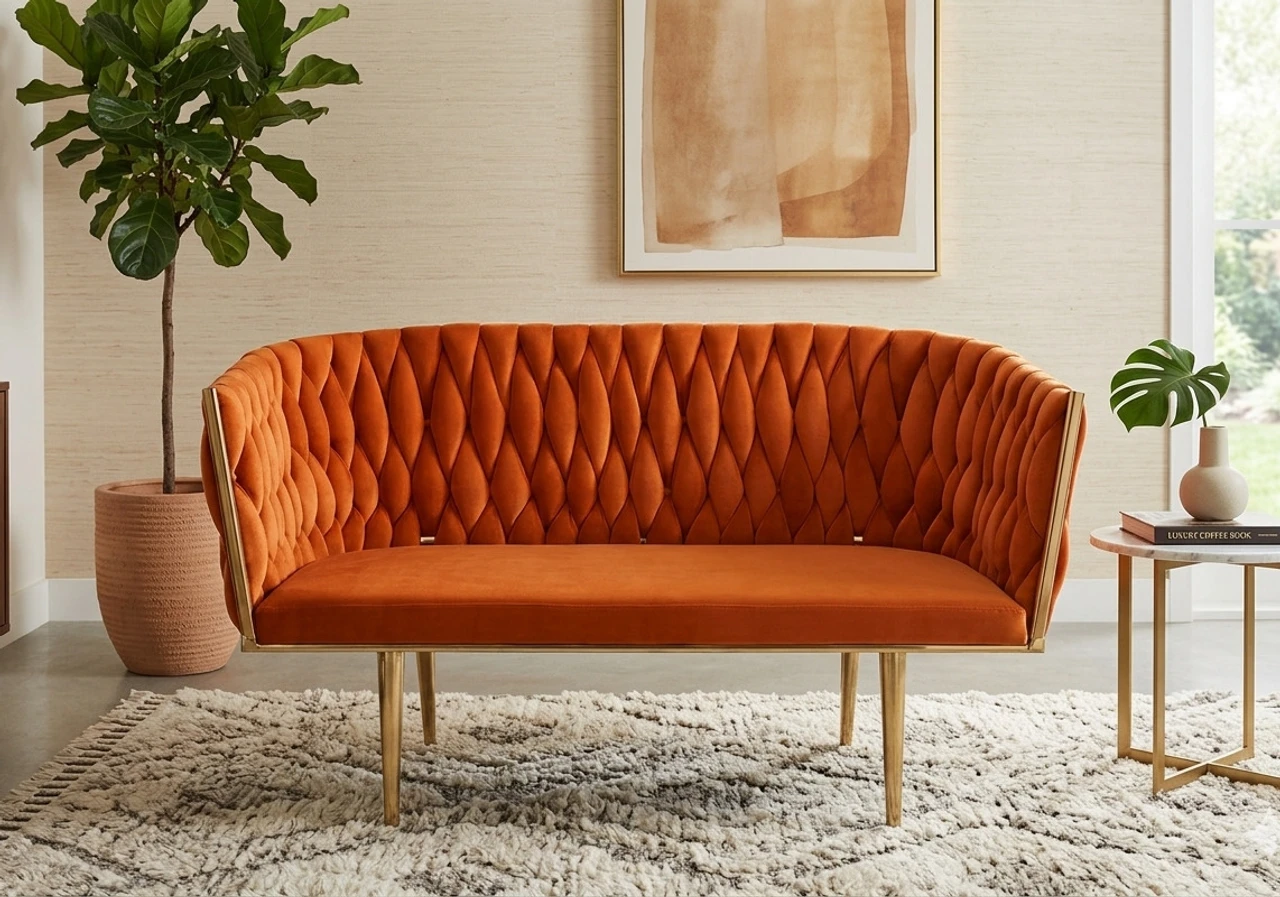3seatersofa: (202, 324, 1083, 824)
backrest: (328, 323, 920, 542)
leftarmrest: (859, 335, 1088, 650)
leg: (378, 651, 404, 824), (881, 653, 905, 825), (418, 652, 435, 744), (840, 652, 857, 744)
rightarmrest: (195, 335, 373, 655)
seat: (253, 543, 1028, 645)
